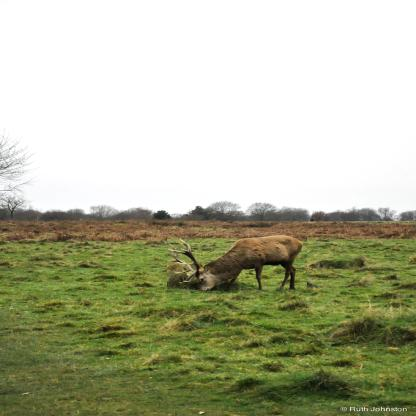Deer: (167, 233, 307, 294)
